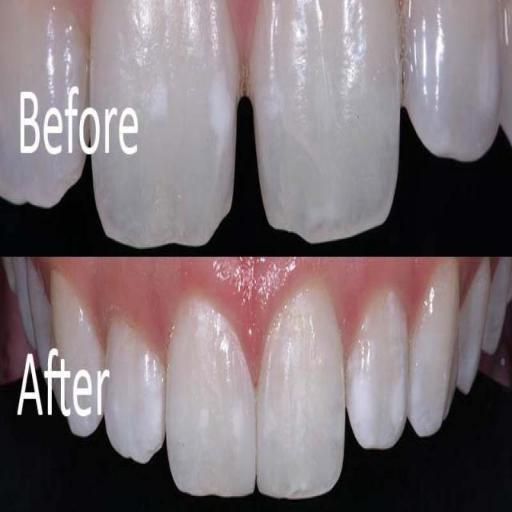spaced: (226, 67, 266, 219)
